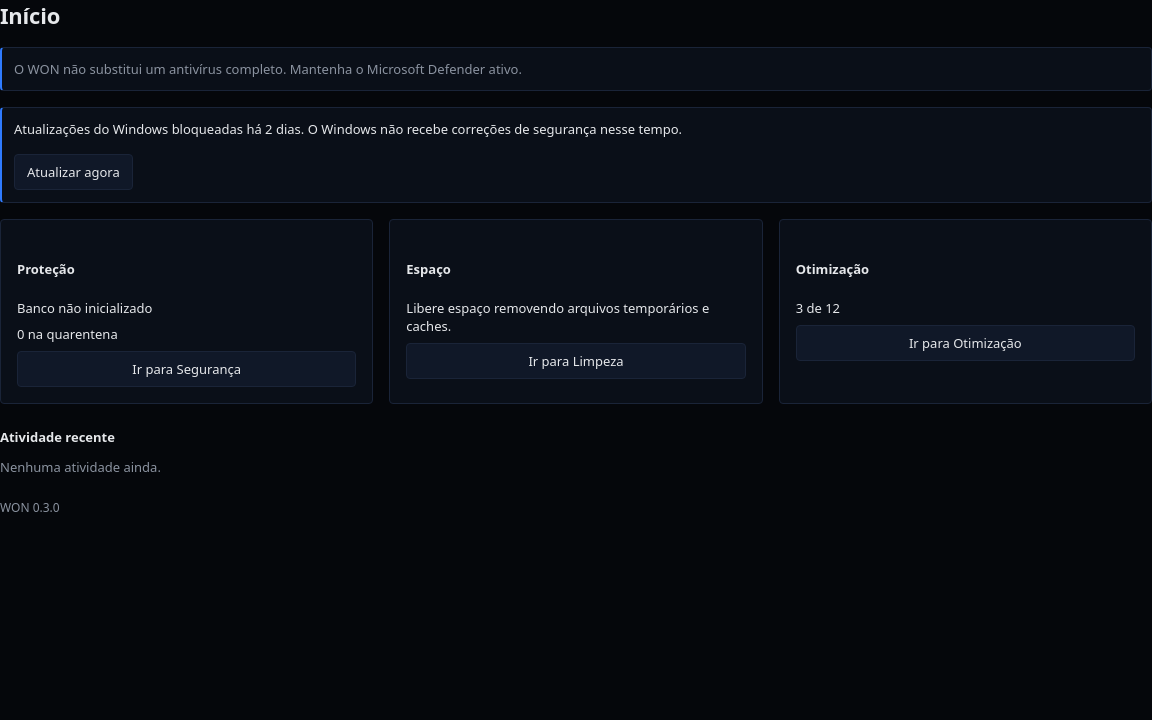
Test: Inicio › update now without admin shows the error
Click the button "Atualizar agora": (73, 172) x1=14 y1=154 x2=133 y2=190
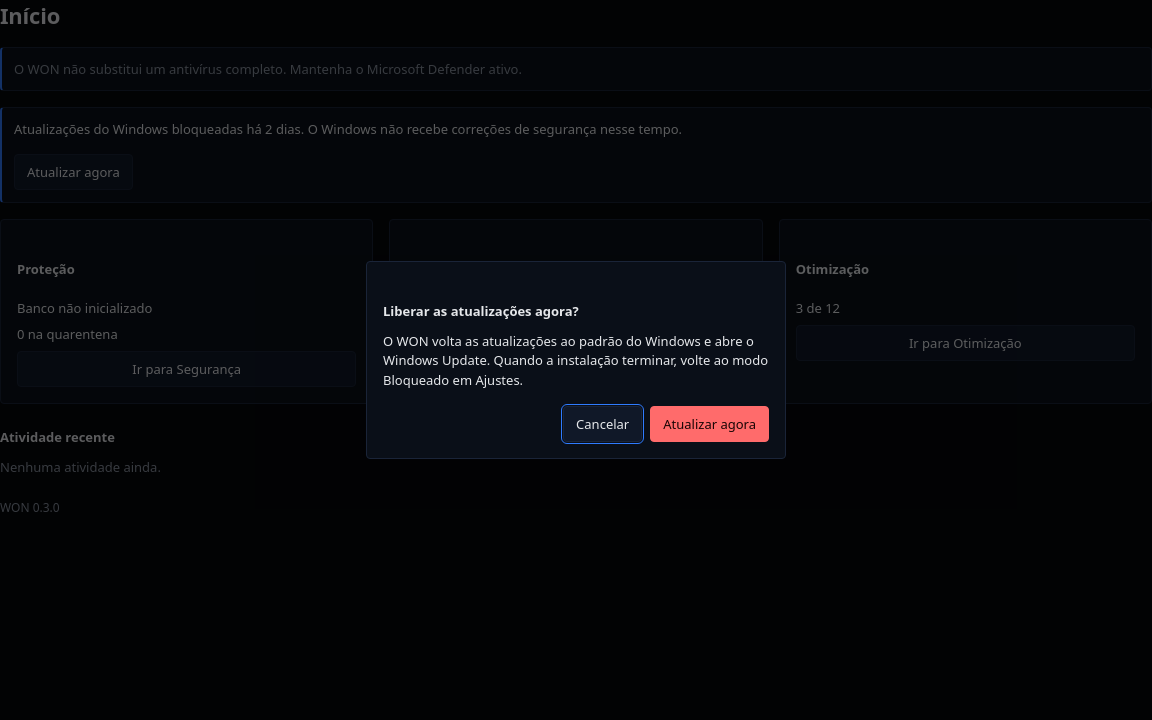
Click the button "Atualizar agora": (710, 424) x1=650 y1=406 x2=769 y2=442
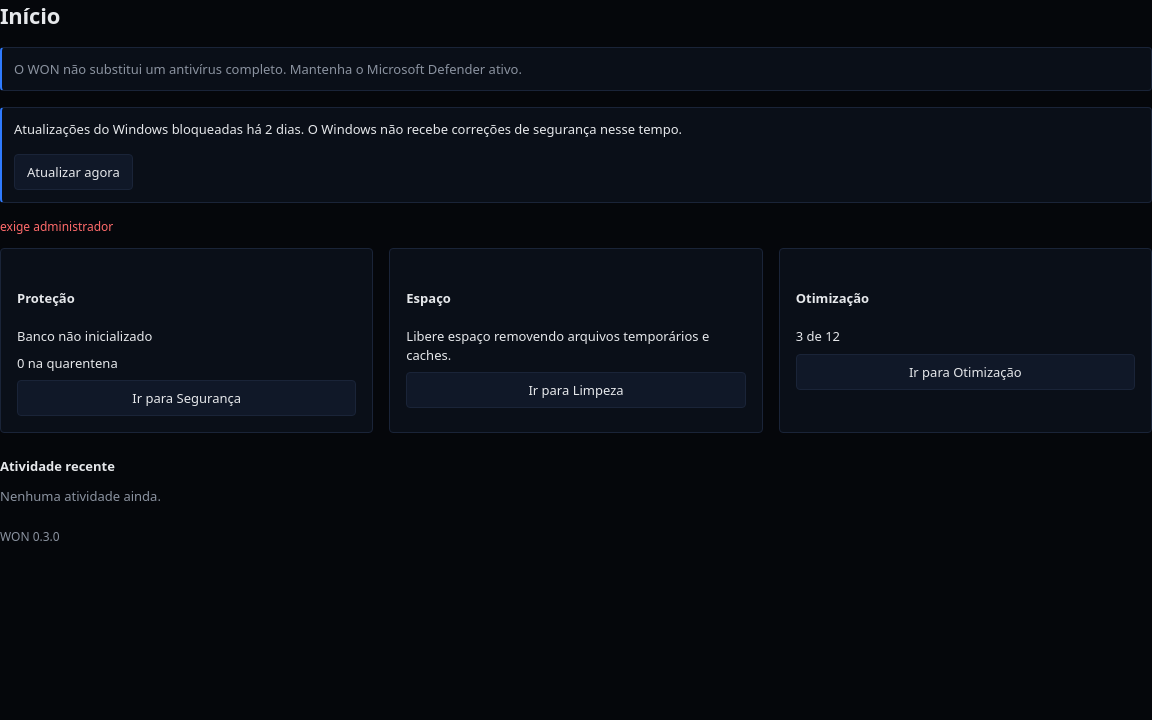
Now the message "exige administrador" is shown, box x1=0 y1=218 x2=113 y2=235
